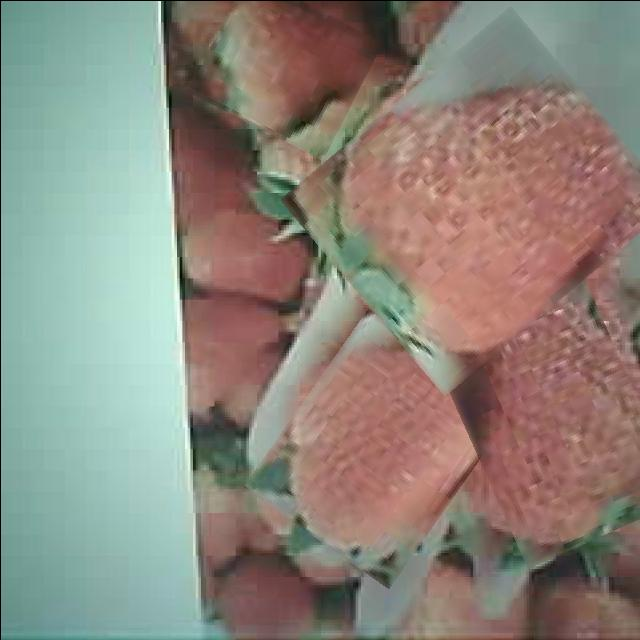strawberry: (303, 39, 640, 363), (266, 323, 490, 572), (449, 287, 640, 556), (198, 0, 371, 147)
